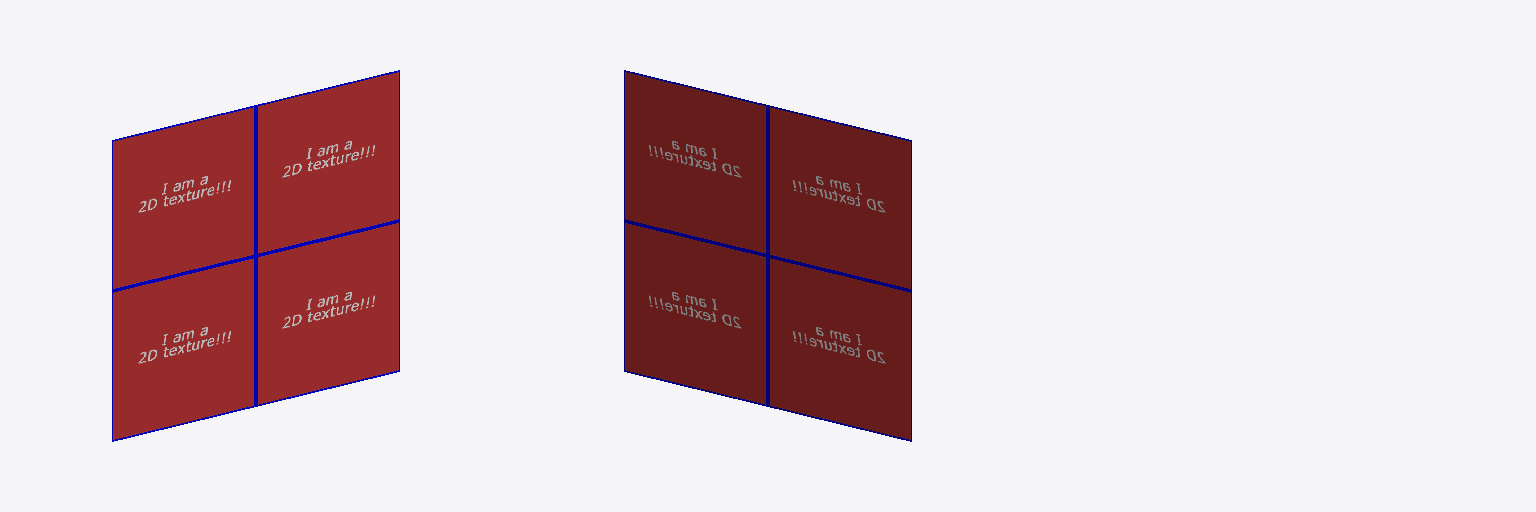
The picture shows the model from 3 angles: view 1: azimuth 30°, elevation 25°; view 2: azimuth 150°, elevation 25°; view 3: azimuth 270°, elevation 25°; orthographic projection.
Visible parts, largest first — view 1: Plane001; view 2: Plane001; view 3: none.
Boxes of the visible parts, <box> form: Plane001: <box>112,70,399,441</box>; Plane001: <box>624,70,911,441</box>.
Bounding box in the file's own units: 5 × 5 × 0.
1 materials, 1 textured.